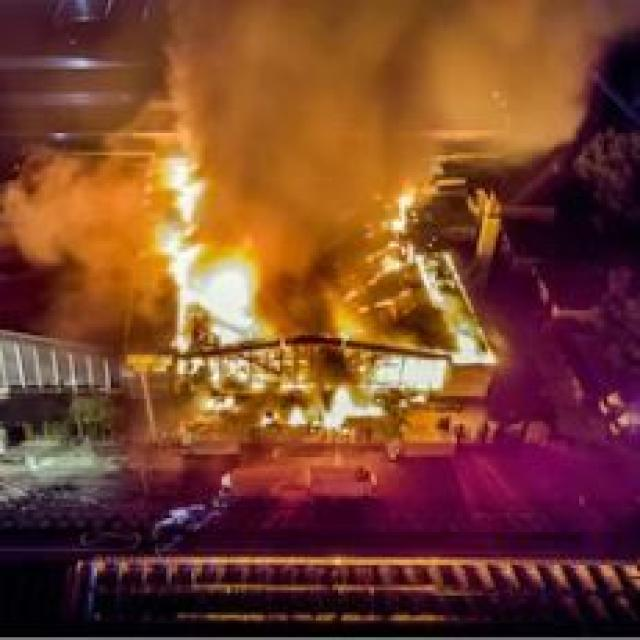Fire: (412, 262, 503, 367), (166, 238, 254, 333), (194, 351, 316, 396), (157, 150, 215, 226), (372, 351, 458, 397), (385, 181, 425, 244), (323, 387, 365, 436), (281, 404, 306, 429)
Smoke: (144, 4, 573, 226), (3, 156, 150, 293)
